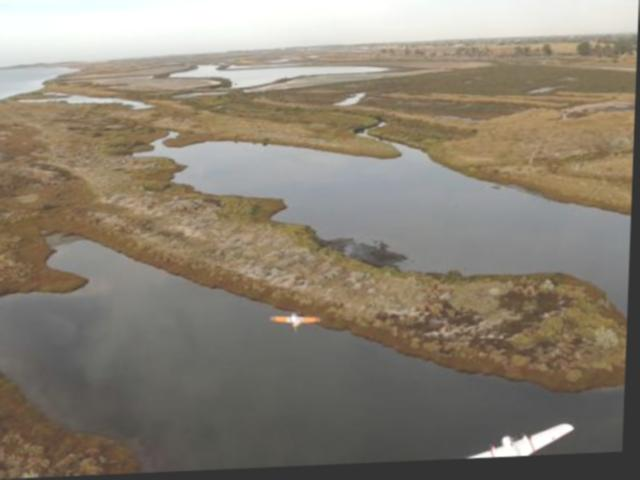uav: (271, 311, 325, 335)
